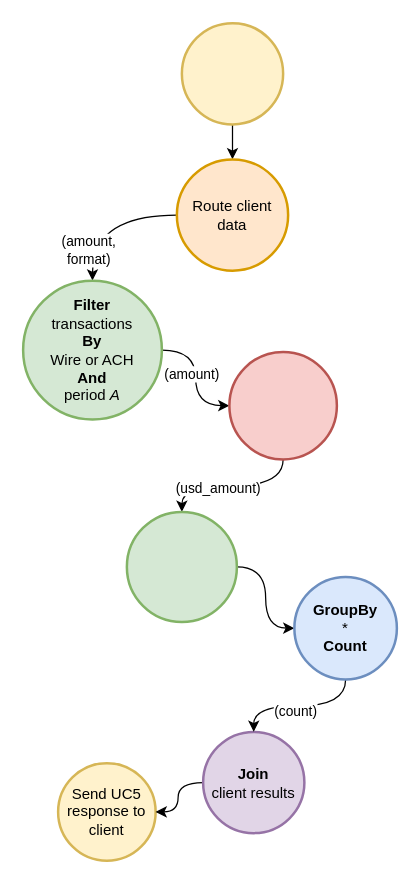
Image size: 419x883. Some labels were removed from this diagram. Here are the shapes that lost their labels. From the top down, the centre of each, then its label:
At [232,73]: "Send data to server".
At [283,405]: "Convert amount into USD currency".
At [181,566]: "Filter By amount less than 1".
